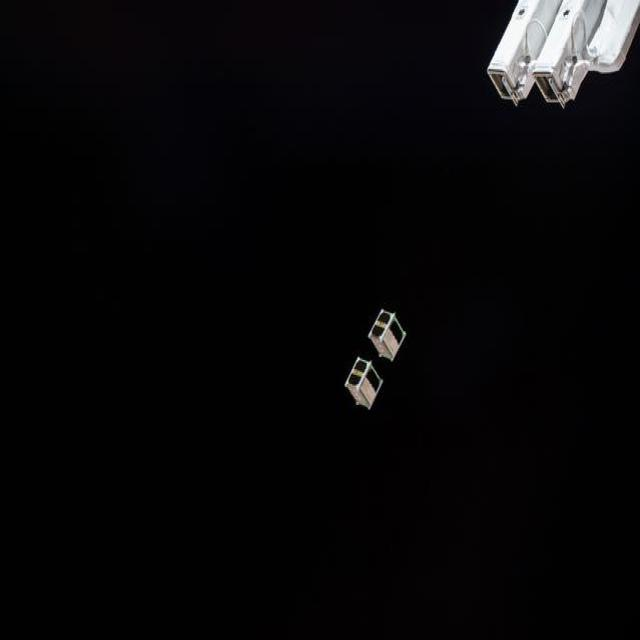satellite: (371, 301, 408, 366), (345, 356, 384, 414)
